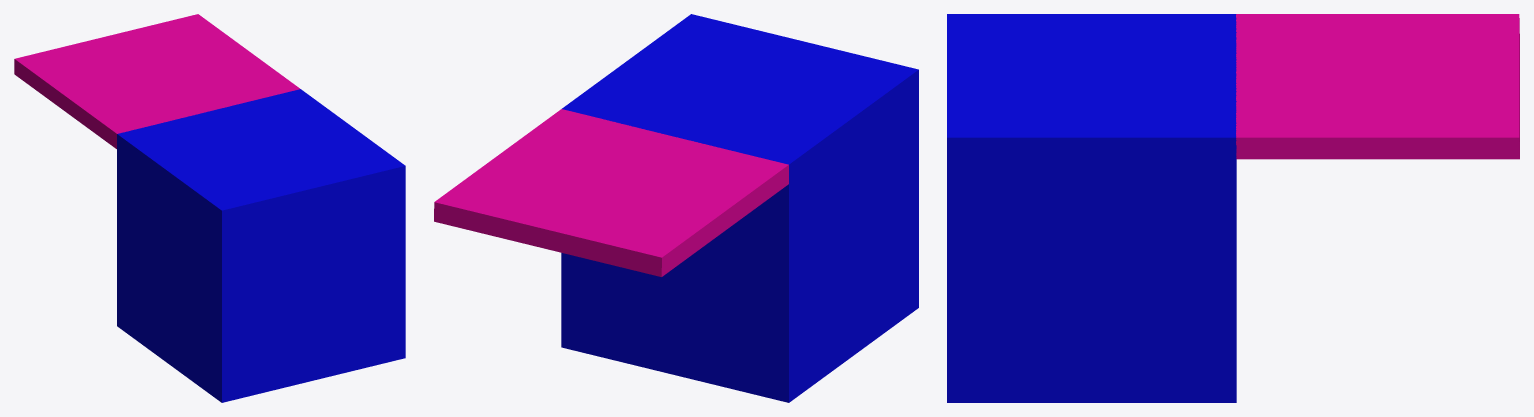
The model's file is tuile2.fbx.
3 views of the same model, side by side, from view 1: azimuth 30°, elevation 25°; view 2: azimuth 150°, elevation 25°; view 3: azimuth 270°, elevation 25° (orthographic). The views are drawn at different scales.
Parts seen in each view (by area): view 1: Cube.001; view 2: Cube.001; view 3: Cube.001.
Part boxes in pixels (x1=…): Cube.001: x1=14, y1=14, x2=405, y2=402; Cube.001: x1=434, y1=14, x2=918, y2=402; Cube.001: x1=947, y1=14, x2=1519, y2=402.
Bounding box in the file's own units: 100 × 100 × 196.
